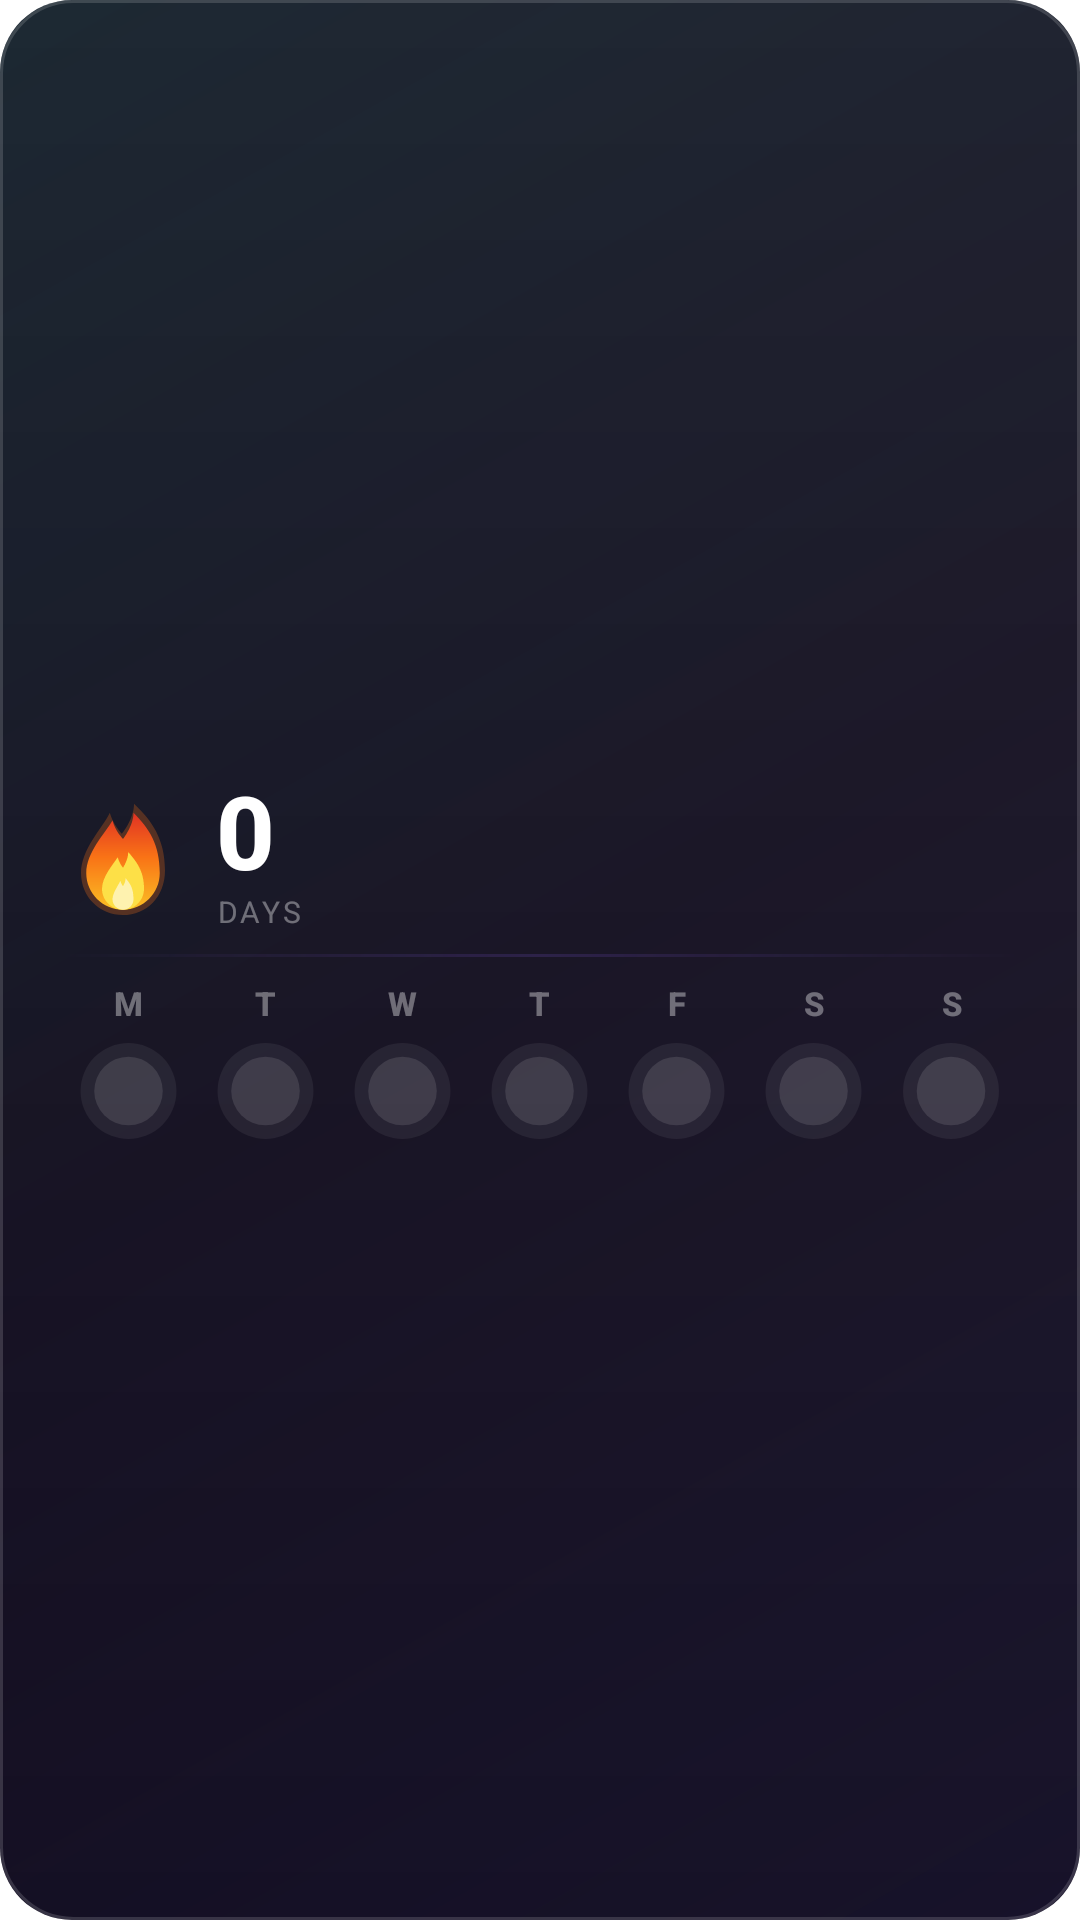

Named icons in this screenshot (1080×1920) and their centers, [x,y]:
Streak: [123,859]
